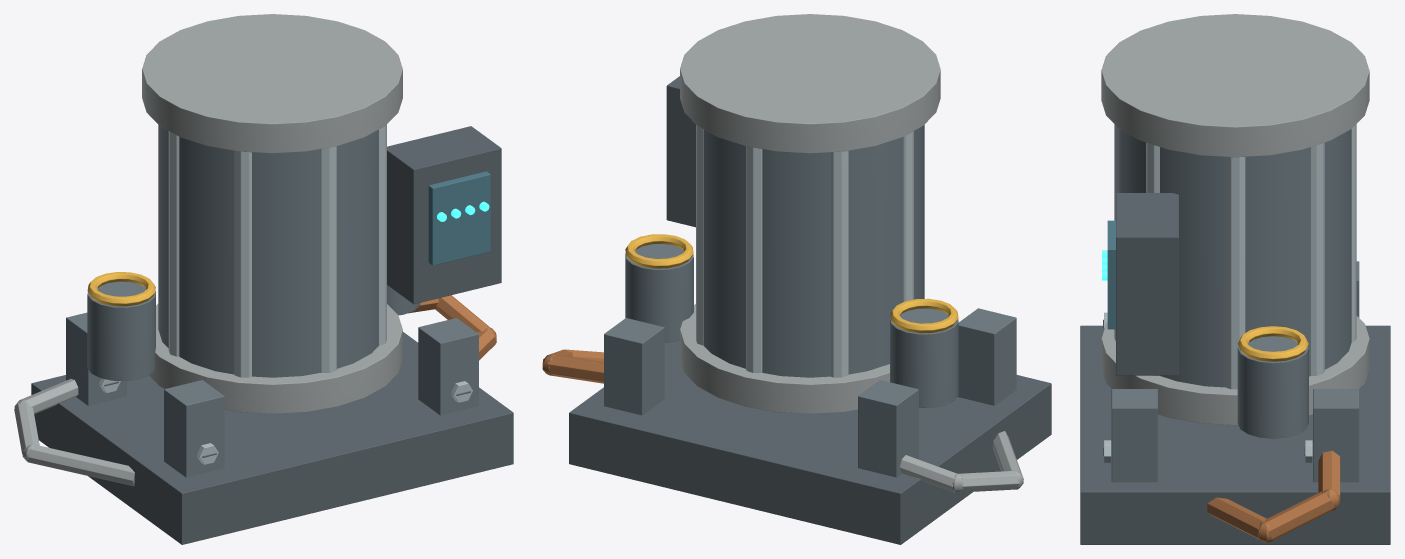
The model's file is 15_Compact_Fusion_Generator.fbx.
The picture shows the model from 3 angles, left to right: view 1: azimuth 30°, elevation 25°; view 2: azimuth 150°, elevation 25°; view 3: azimuth 270°, elevation 25°; orthographic projection. The views are drawn at different scales.
Parts seen in each view (by area): view 1: 15_Compact_Fusion_Generator; view 2: 15_Compact_Fusion_Generator; view 3: 15_Compact_Fusion_Generator.
Boxes of the visible parts, x1,y1,x2,y2 form: 15_Compact_Fusion_Generator: (14,14,513,544); 15_Compact_Fusion_Generator: (542,14,1051,544); 15_Compact_Fusion_Generator: (1080,14,1390,544).
Bounding box in the file's own units: 2.65 × 2.06 × 1.48.
